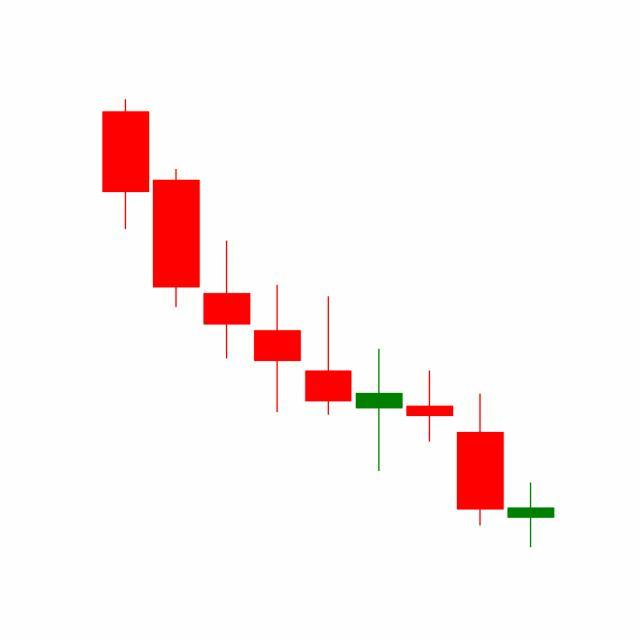Hikkake Pattern: (252, 283, 506, 529)
